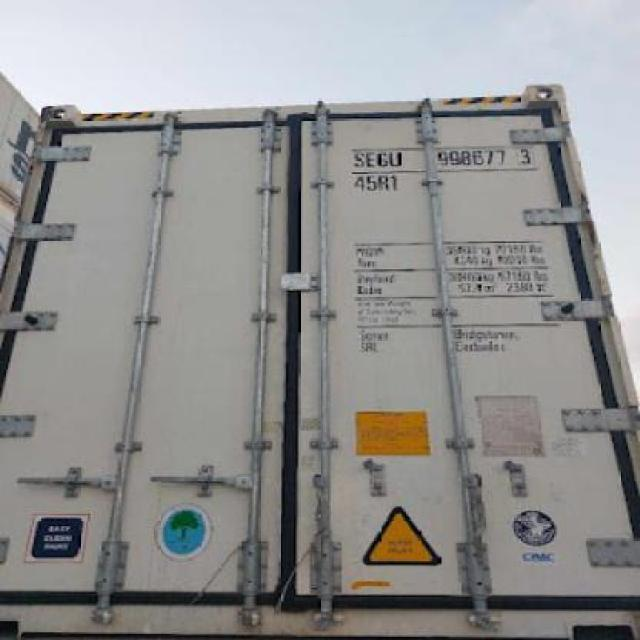ISO: (352, 174, 399, 192)
container_number: (348, 146, 525, 173)
